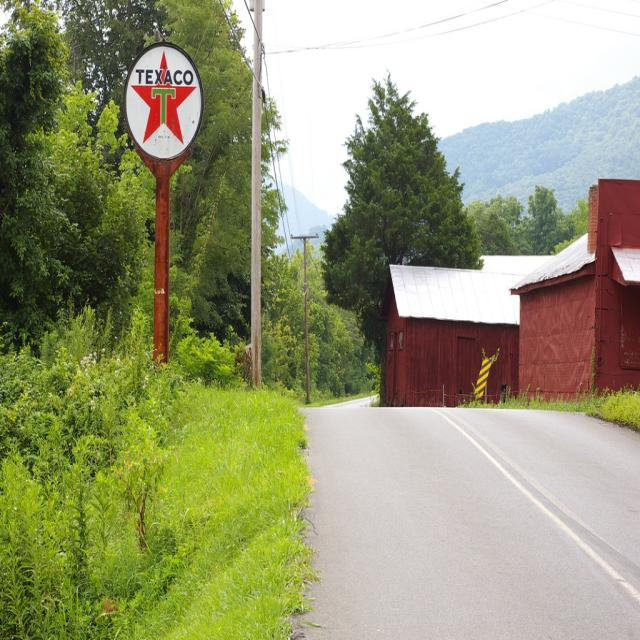texaco: (126, 46, 204, 162)
